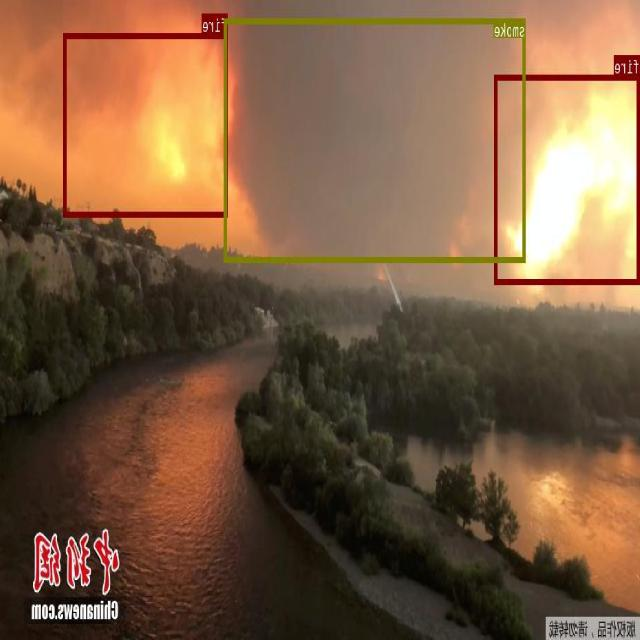fire: (495, 75, 640, 282), (65, 33, 228, 216)
smoke: (225, 18, 526, 261)
